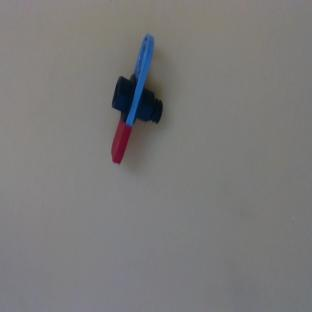part_1_good: (109, 32, 164, 165)
